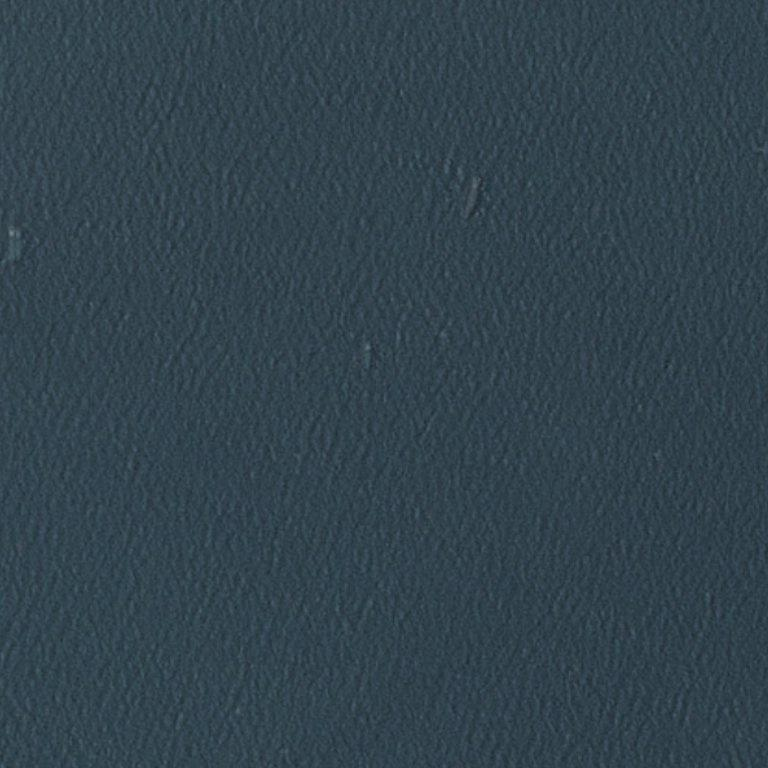ship: (453, 174, 475, 224), (359, 342, 375, 374), (18, 220, 21, 253), (462, 213, 469, 220), (2, 217, 3, 256), (366, 369, 370, 373), (367, 345, 371, 349), (471, 25, 476, 28), (9, 259, 14, 262), (479, 156, 482, 160), (364, 344, 368, 347), (20, 0, 23, 3), (16, 258, 22, 259), (12, 228, 14, 231), (0, 230, 1, 233), (7, 75, 10, 76)
